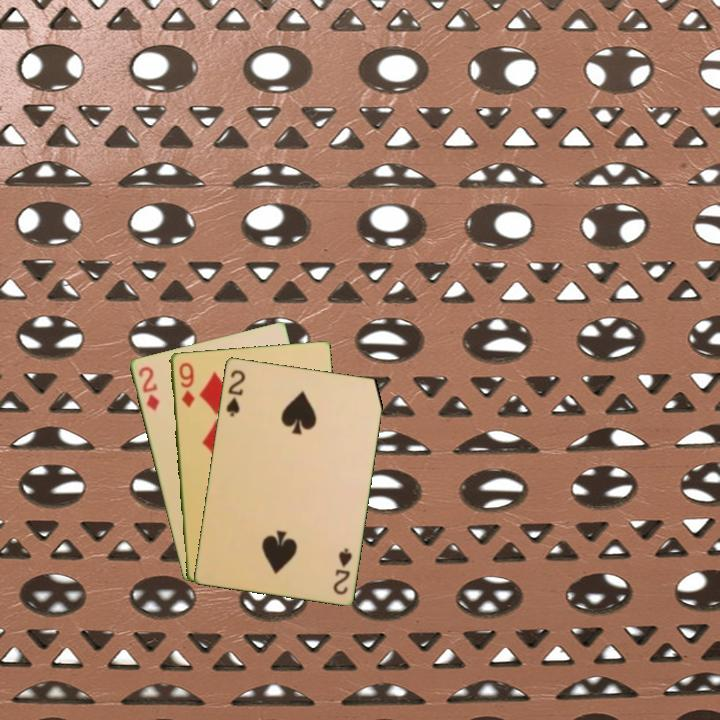2d: (135, 363, 162, 413)
2s: (222, 366, 248, 419), (330, 544, 355, 597)
9d: (175, 359, 197, 410)
